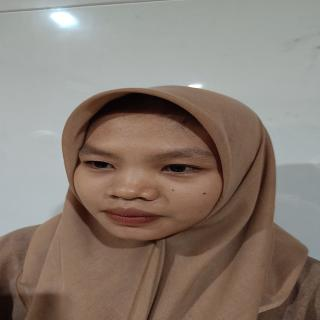Netral: (57, 96, 252, 248)
